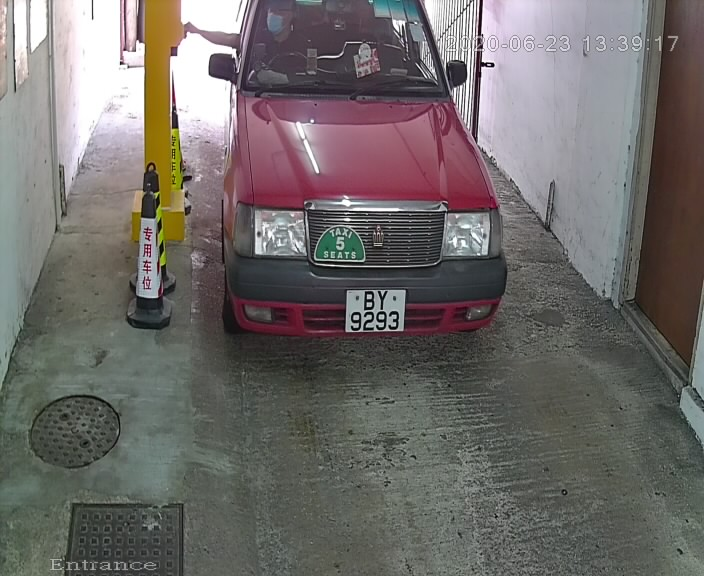taxi: (201, 1, 531, 367)
taxi_mark: (313, 219, 371, 270)
